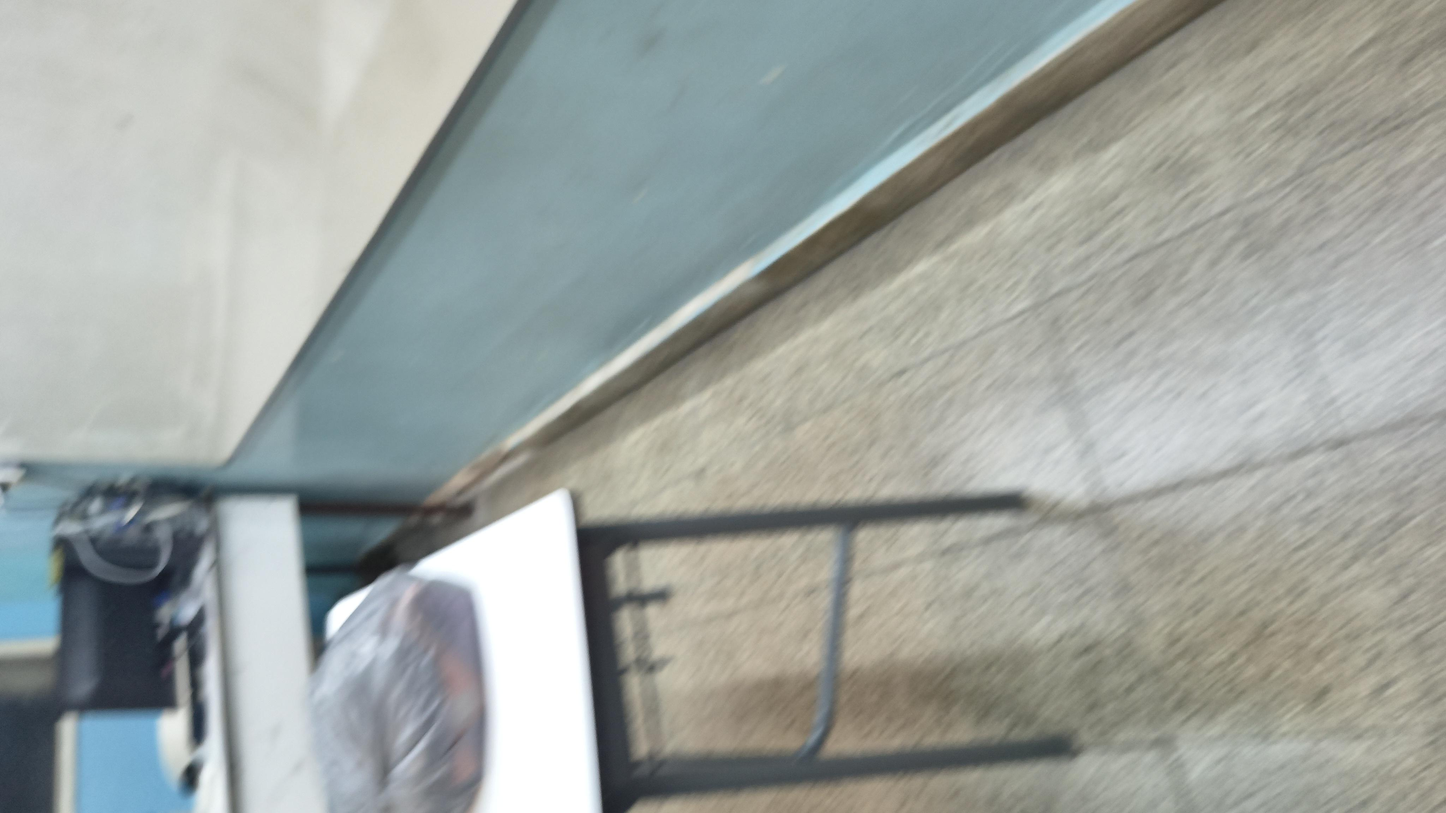Garbage: (0, 155, 483, 286)
